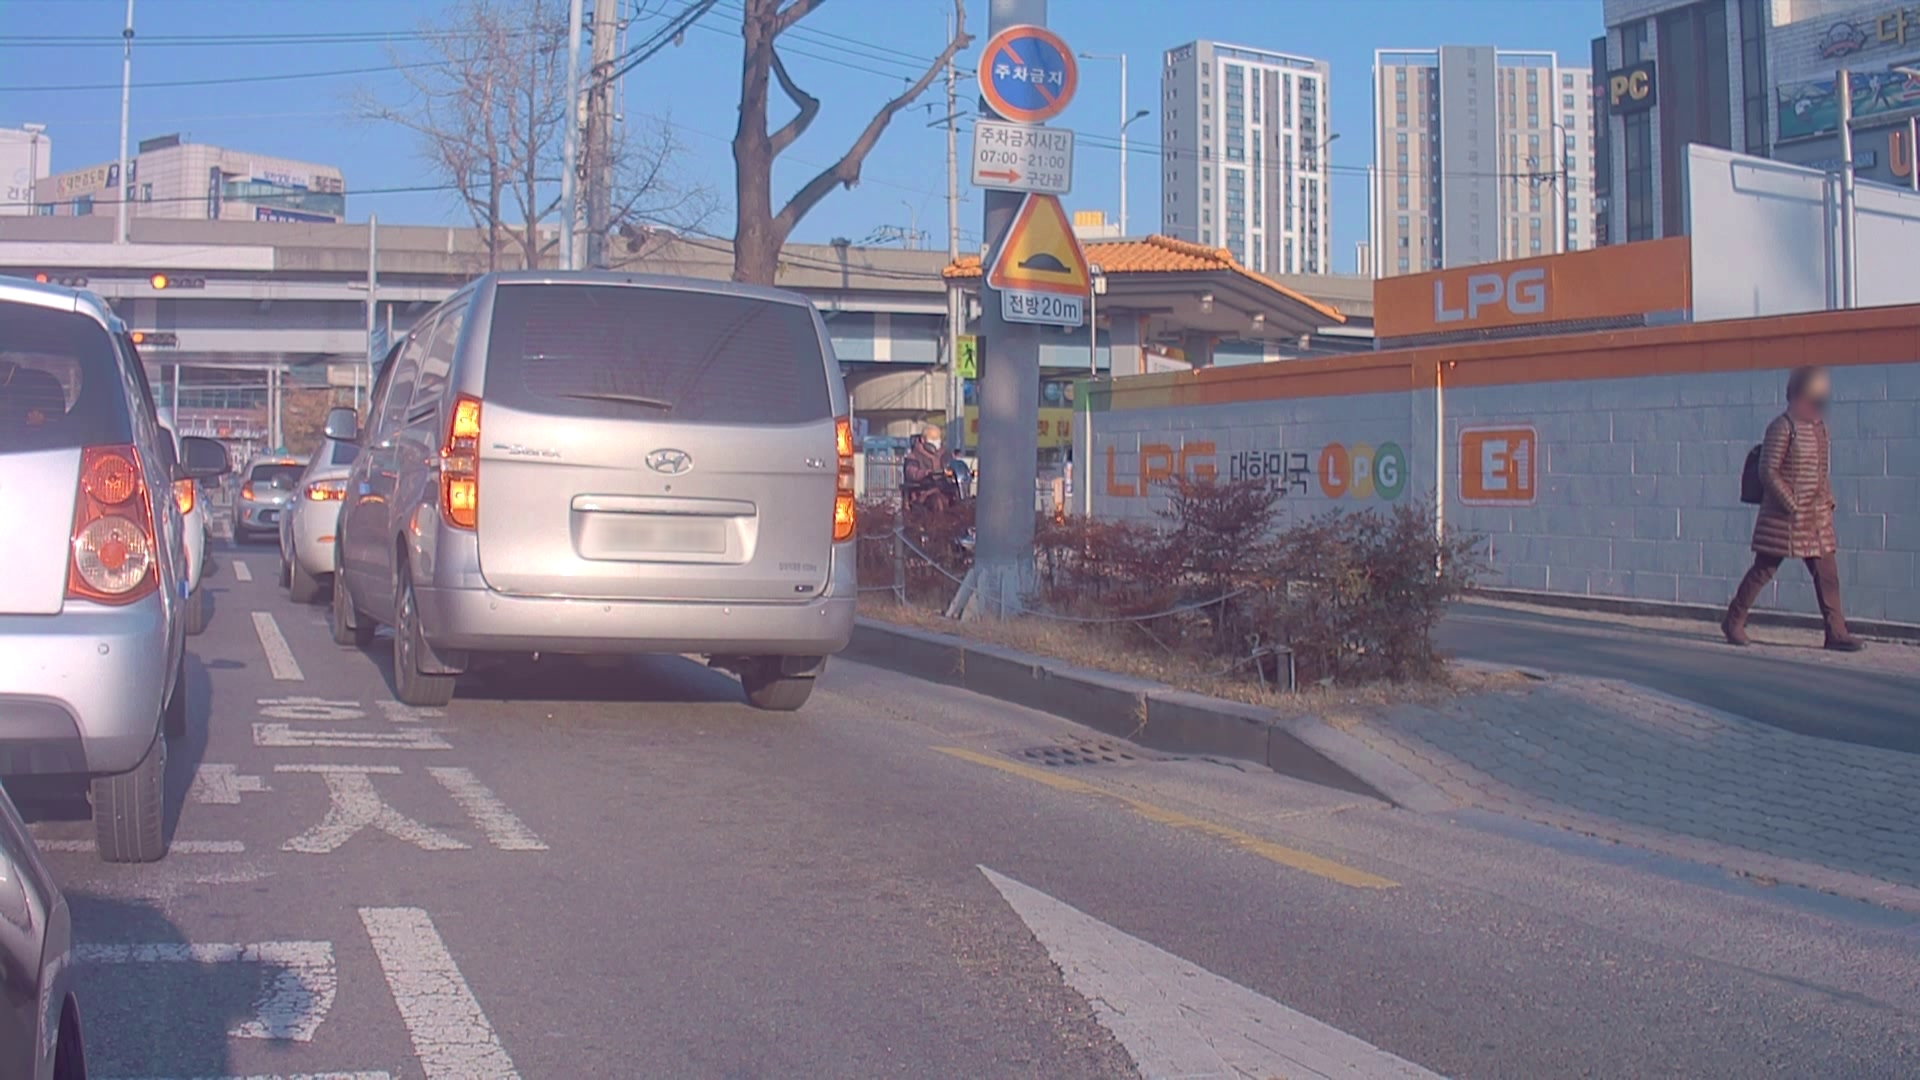trafficLight: (149, 274, 206, 295), (127, 326, 181, 347), (32, 273, 91, 286)
trafficSignCircle: (977, 22, 1079, 125)
trafficSignTri: (986, 190, 1093, 291)
